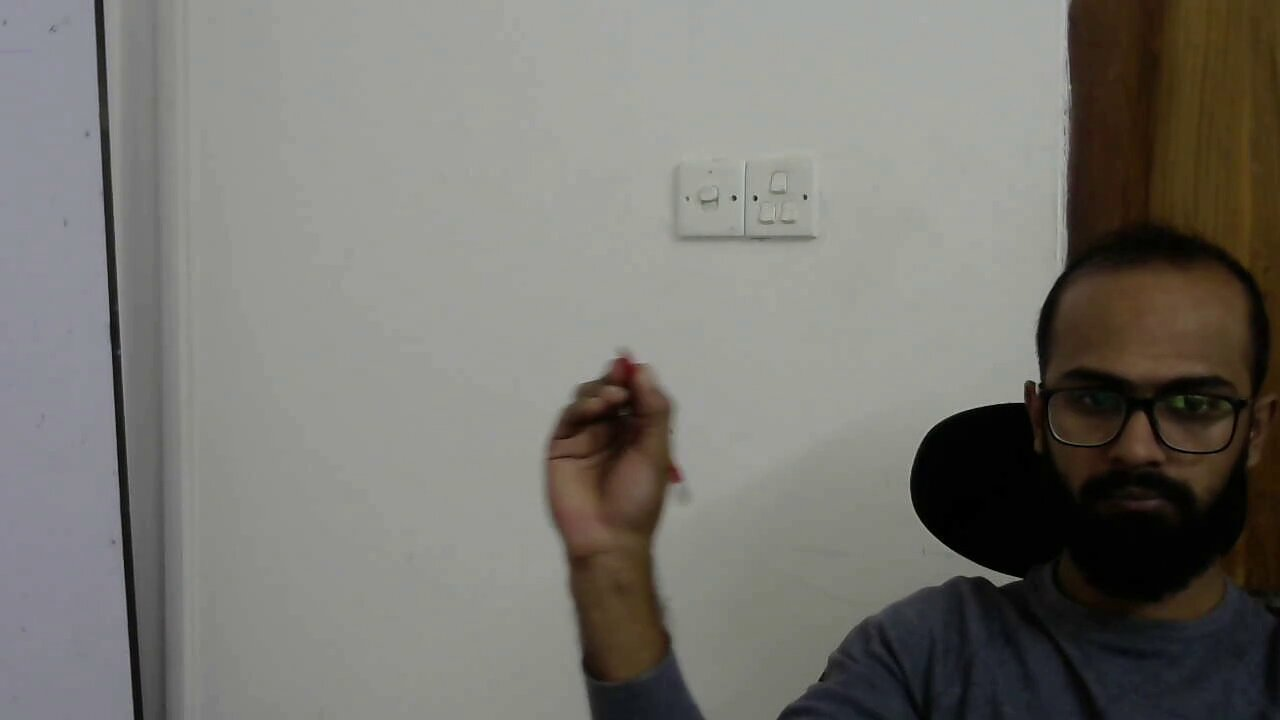pointer: (545, 350, 676, 526)
